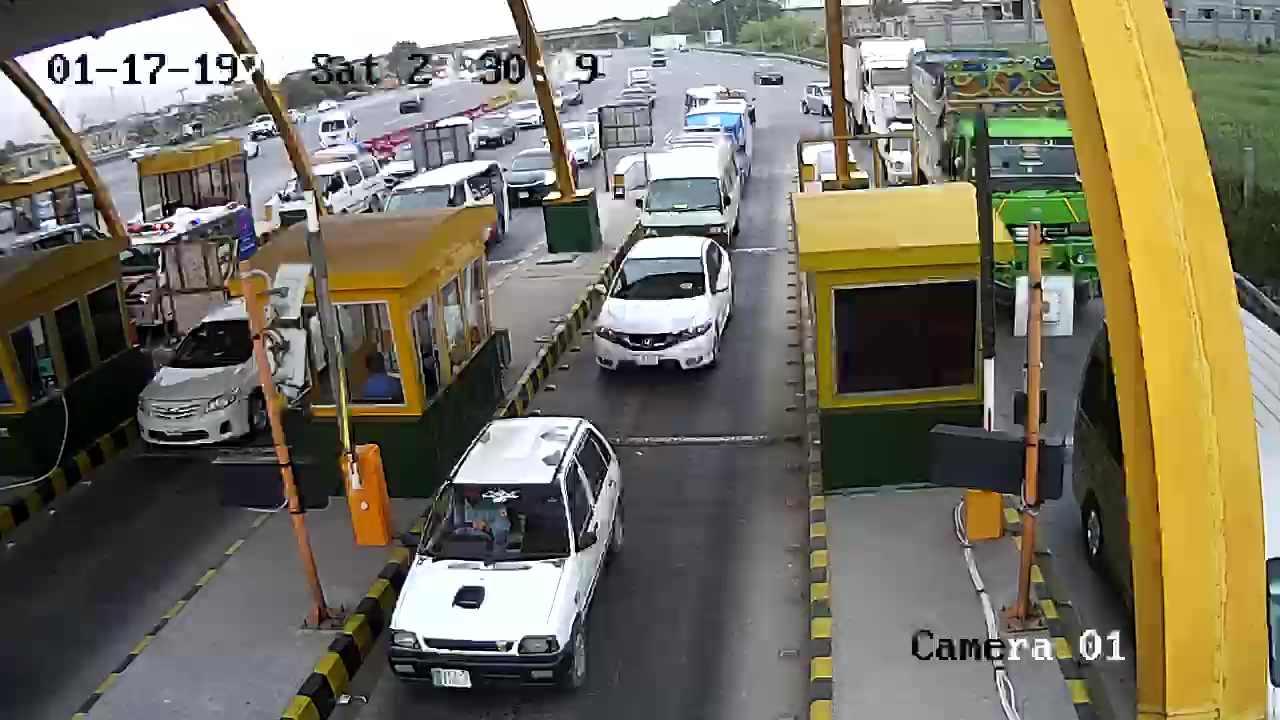F1: (387, 413, 638, 691), (577, 227, 747, 383)
